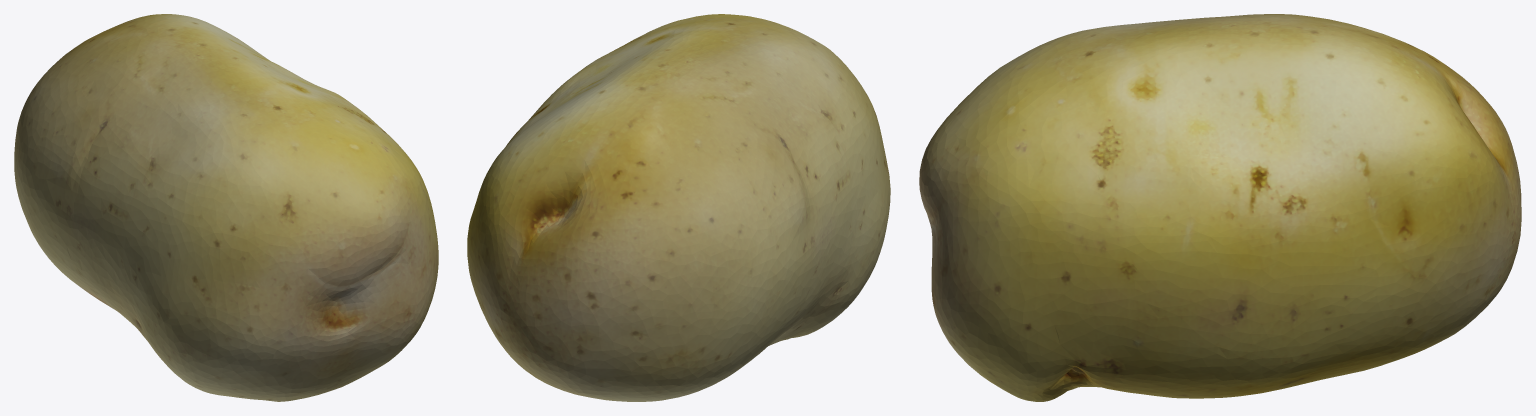
Rendered from potato_ai_mesh_1.glb.
The picture shows the model from 3 angles, left to right: view 1: azimuth 30°, elevation 25°; view 2: azimuth 150°, elevation 25°; view 3: azimuth 270°, elevation 25°; orthographic projection. The views are drawn at different scales.
Visible parts, largest first — view 1: world; view 2: world; view 3: world.
Boxes of the visible parts, x1,y1,x2,y2 form: world: (14,14,438,401); world: (467,14,890,401); world: (919,14,1521,401).
Size of the model in its own units: 0.607 by 0.5823 by 0.9129.
Materials: 1 (1 with a texture image).
